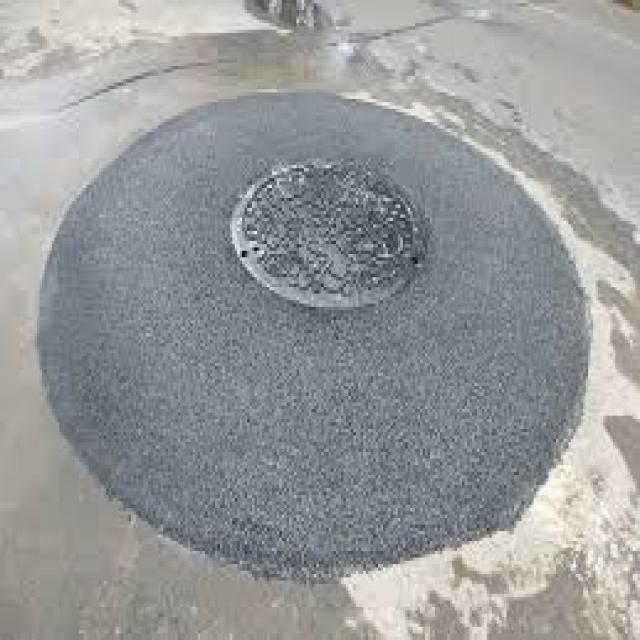manhole: (232, 162, 420, 311)
